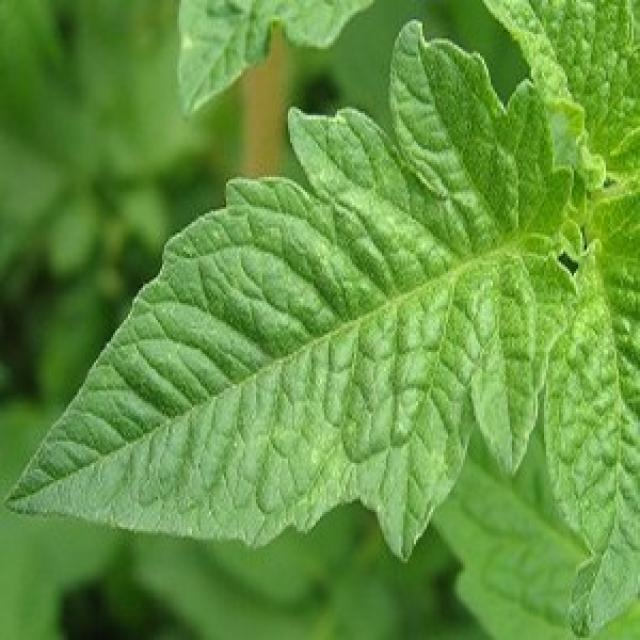Healthy Leaf: (19, 23, 580, 559)
